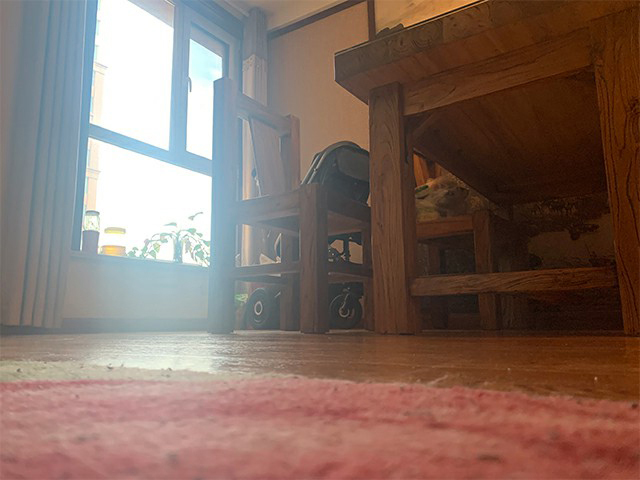carpet: (1, 360, 640, 480)
curtain: (1, 1, 86, 329)
stool: (208, 75, 373, 335)
table: (334, 1, 640, 337)
